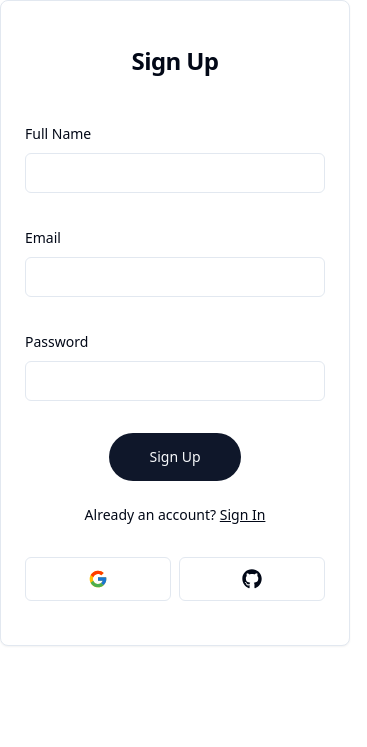
Test case: RegisterForm component › should show validation errors if form is submitted empty
Step 1. Click the button "Sign Up" → (175, 457), box [110,433,240,481]
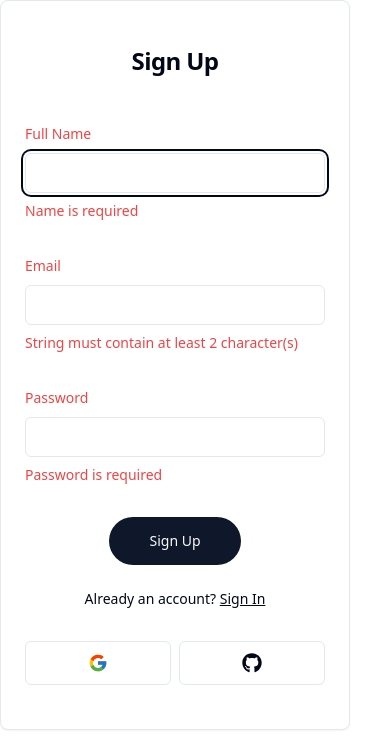
Result: the text "String must contain at least 2 character(s)" is shown at [25,333,325,353]
Result: the text "Name is required" is shown at [25,201,138,220]
Result: the text "Password is required" is shown at [25,465,162,484]
